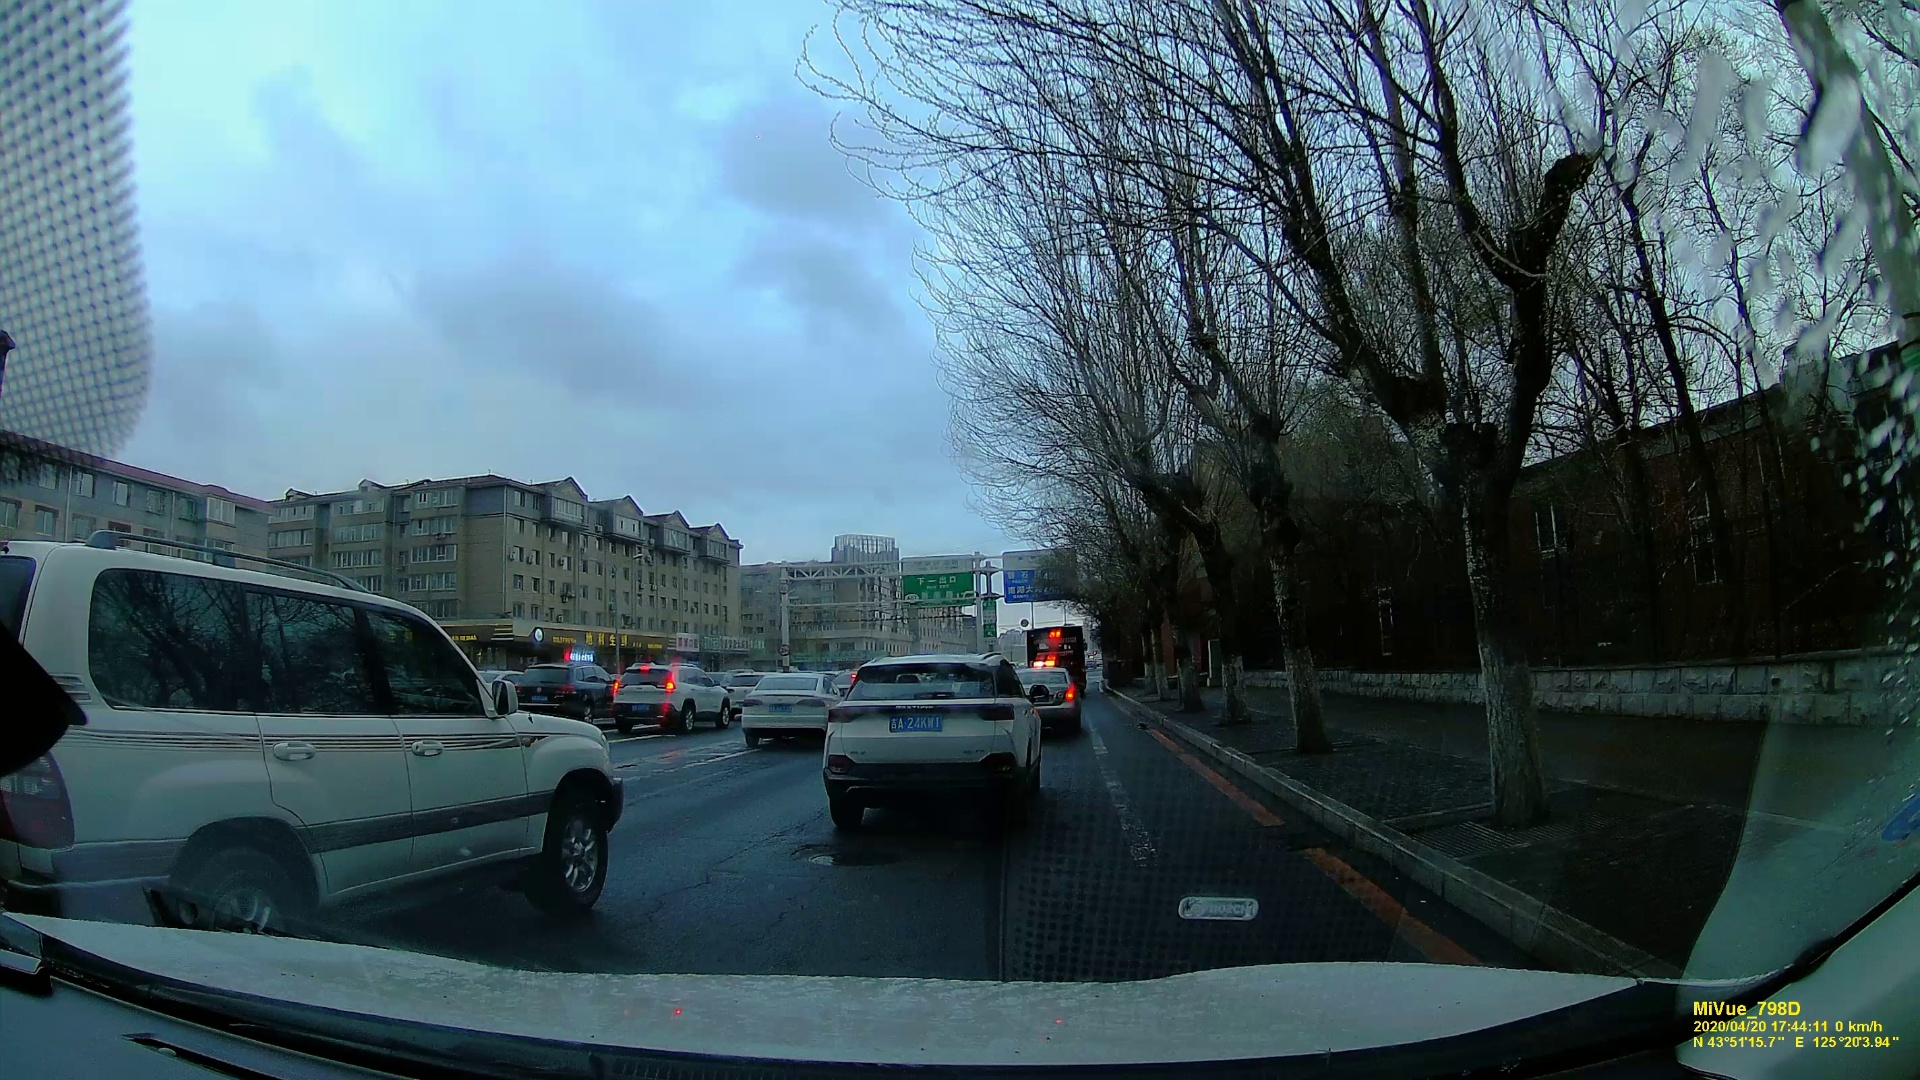bus: (1025, 626, 1087, 692)
traffic_sign: (1000, 550, 1073, 603), (902, 554, 973, 599)
vehicle: (26, 545, 613, 945), (815, 647, 1048, 823), (603, 663, 737, 735), (737, 669, 835, 745), (510, 662, 612, 717), (1017, 669, 1076, 721)
